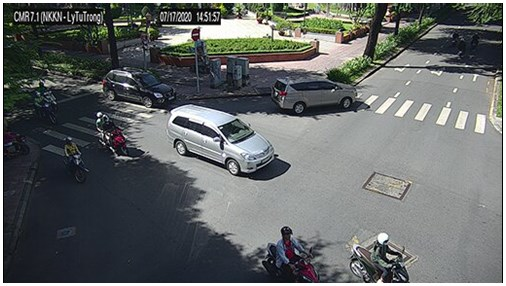xe_hoi: (167, 104, 275, 178), (271, 76, 358, 114), (102, 68, 177, 108)
xe_may: (262, 226, 320, 282), (349, 233, 411, 283), (95, 112, 129, 158), (63, 137, 90, 184), (33, 91, 58, 124), (38, 82, 58, 108), (470, 31, 481, 51), (458, 37, 467, 58), (451, 31, 458, 47)
